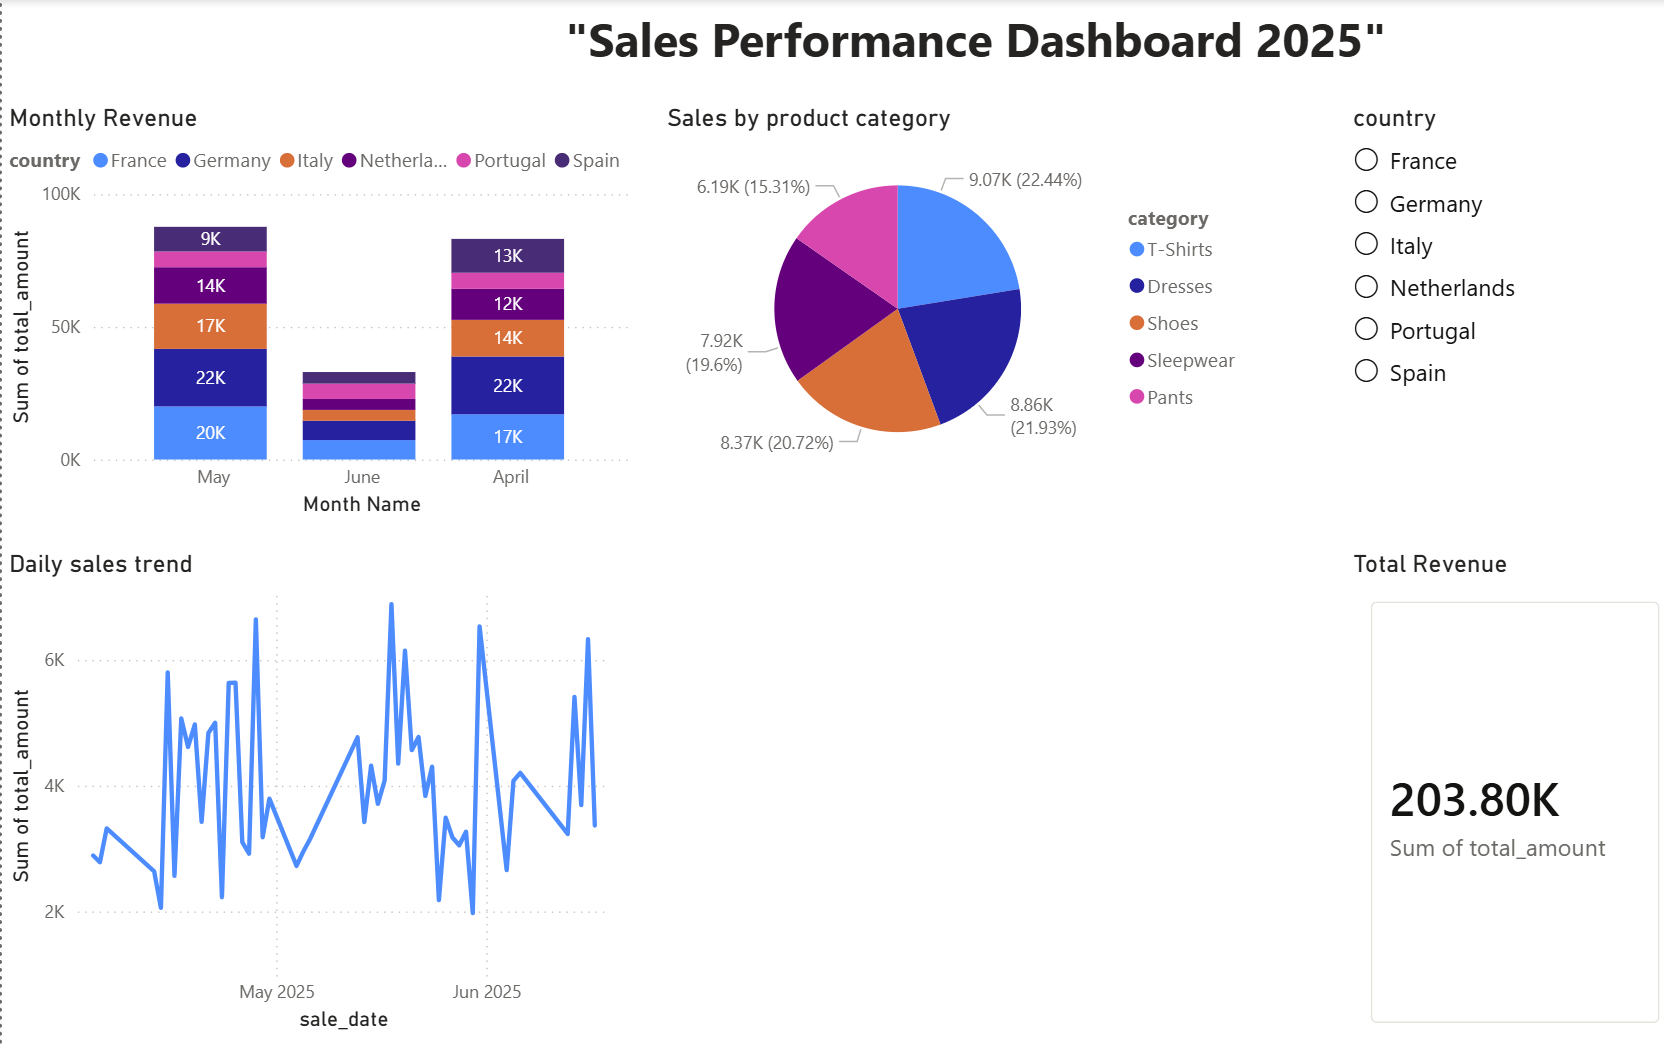

What the dashboard file says about the page in this screenshot:
{"tool":"powerbi","page":{"name":"Page 1","canvas":[1280,720],"ordinal":0},"visuals":[{"type":"columnChart","title":"Monthly Revenue","fields":{"Category":["sales.Month Name"],"Y":["Sum(sales.total_amount)"],"Series":["sales.country"]},"box":[0,72,435.5,287.8],"z":0},{"type":"pieChart","title":"Sales by product category","fields":{"Category":["products.category"],"Y":["Sum(saleitems.Line Total)"]},"box":[450.7,72,409,263.2],"z":1000},{"type":"listSlicer","fields":{"Values":["sales.country"]},"box":[922.1,72,308.6,263.2],"z":2000},{"type":"cardVisual","title":"Total Revenue","fields":{"Data":["Sum(sales.total_amount)"]},"box":[922.1,376.8,232.9,342.7],"z":3000},{"type":"lineChart","title":"Daily sales trend","fields":{"Y":["Sum(sales.total_amount)"],"Category":["sales.sale_date"]},"box":[0,376.8,435.5,335.1],"z":4000},{"type":"textbox","box":[327.6,0,679.8,53],"z":5000}]}

Visuals, with their boxes on the page's 1280x720 design canvas (x1, y1, x2, y2). These are canvas units, not pixel positions in the 1664x1046 screenshot, which may show the page scaled, cropped or inside an application window:
"Monthly Revenue" columnChart: pyautogui.locateOnScreen(0, 72, 436, 360)
"Sales by product category" pieChart: pyautogui.locateOnScreen(451, 72, 860, 335)
listSlicer - sales.country: pyautogui.locateOnScreen(922, 72, 1231, 335)
"Total Revenue" cardVisual: pyautogui.locateOnScreen(922, 377, 1155, 720)
"Daily sales trend" lineChart: pyautogui.locateOnScreen(0, 377, 436, 712)
textbox: pyautogui.locateOnScreen(328, 0, 1007, 53)
